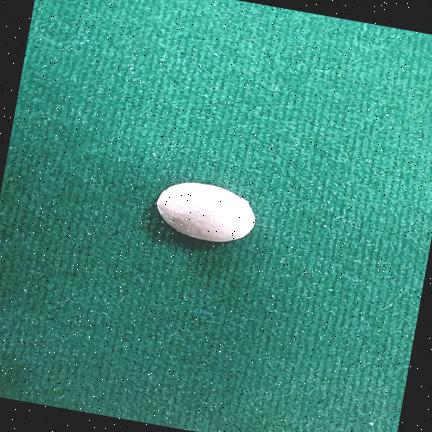husk: (157, 183, 255, 242)
